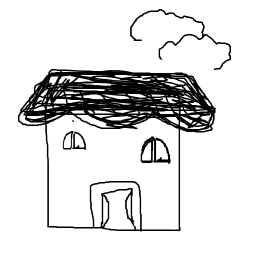closed_window: (140, 136, 172, 162), (61, 131, 86, 150)
clouds: (129, 8, 230, 70)
door: (86, 172, 147, 238)
shaded_roof: (14, 68, 216, 132)
wall: (43, 117, 186, 234)
